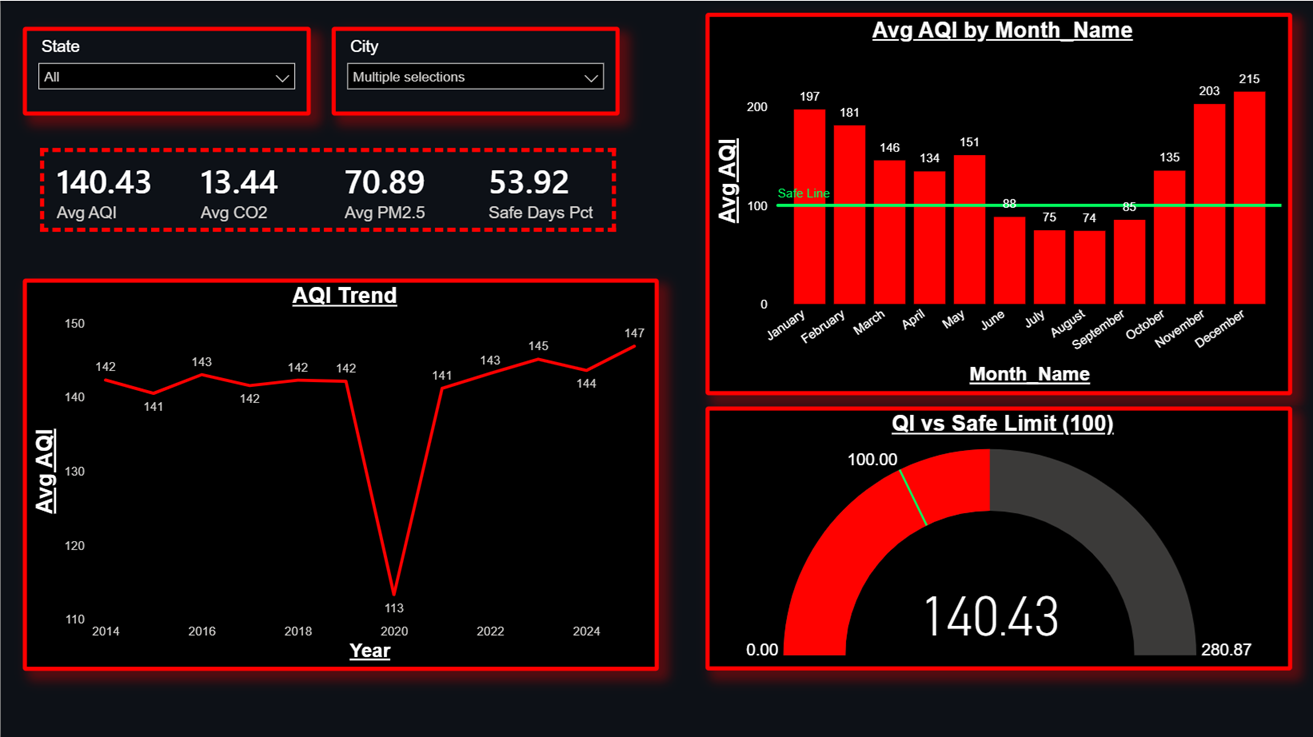

The page's visual inventory and layout, read from the dashboard file:
{"tool":"powerbi","page":{"name":"City Deep Dive","canvas":[1280,720],"ordinal":1},"visuals":[{"type":"slicer","fields":{"Values":["Dim_City.City"]},"box":[321.7,25,280,86.7],"z":0},{"type":"slicer","fields":{"Values":["Dim_City.State"]},"box":[21.7,25,280,86.7],"z":1000},{"type":"cardVisual","fields":{"Data":["Fact_AQI.Avg AQI","Fact_AQI.Avg CO2","Fact_AQI.Avg PM2.5","Fact_AQI.Safe Days Pct"]},"box":[21.7,126.7,595,115],"z":2000},{"type":"lineChart","title":"AQI Trend","fields":{"Y":["Fact_AQI.Avg AQI"],"Category":["Dim_Date.Year"]},"box":[21.7,270,618.3,381.7],"z":3000},{"type":"clusteredColumnChart","fields":{"Y":["Fact_AQI.Avg AQI"],"Category":["Dim_Date.Month_Name"]},"box":[685,11.7,570,371.7],"z":4000},{"type":"gauge","title":"QI vs Safe Limit (100)","fields":{"Y":["Fact_AQI.Avg AQI"]},"box":[685,395,570,256.7],"z":5000}]}

Visuals, with their boxes in screenshot pixels (x1, y1, x2, y2), scaled from the page's 1280x720 canvas onto the 1313x737 screenshot:
slicer - Dim_City.City: {"left": 330, "top": 26, "right": 617, "bottom": 114}
slicer - Dim_City.State: {"left": 22, "top": 26, "right": 309, "bottom": 114}
cardVisual - Fact_AQI.Avg AQI x Fact_AQI.Avg CO2: {"left": 22, "top": 130, "right": 633, "bottom": 247}
"AQI Trend" lineChart: {"left": 22, "top": 276, "right": 656, "bottom": 667}
clusteredColumnChart - Fact_AQI.Avg AQI x Dim_Date.Month_Name: {"left": 703, "top": 12, "right": 1287, "bottom": 392}
"QI vs Safe Limit (100)" gauge: {"left": 703, "top": 404, "right": 1287, "bottom": 667}
